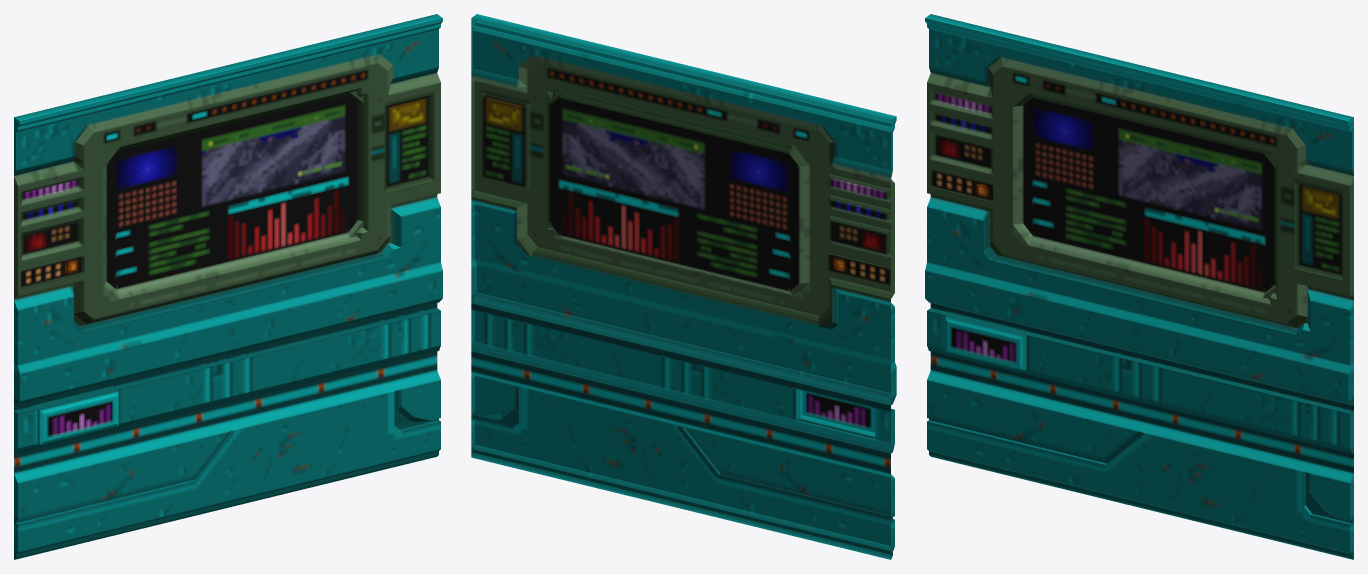
The model's file is med2_4.fbx.
The picture shows the model from 3 angles, left to right: view 1: azimuth 30°, elevation 25°; view 2: azimuth 150°, elevation 25°; view 3: azimuth 330°, elevation 25°; orthographic projection.
Parts seen in each view (by area): view 1: med2_4_mesh; view 2: med2_4_mesh; view 3: med2_4_mesh.
Boxes of the visible parts, <box> form: med2_4_mesh: <box>14,14,442,559</box>; med2_4_mesh: <box>471,14,896,559</box>; med2_4_mesh: <box>925,14,1353,559</box>.
Size of the model in its own units: 256 by 256 by 7.
